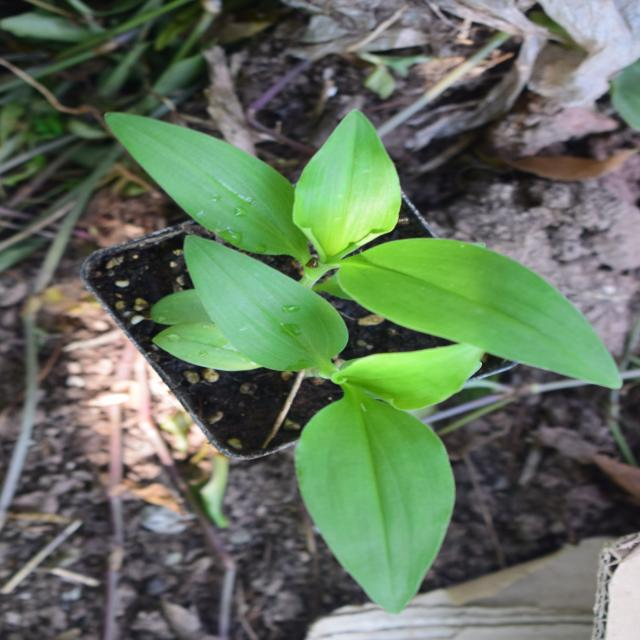Common Dayflower: (42, 106, 548, 585)
